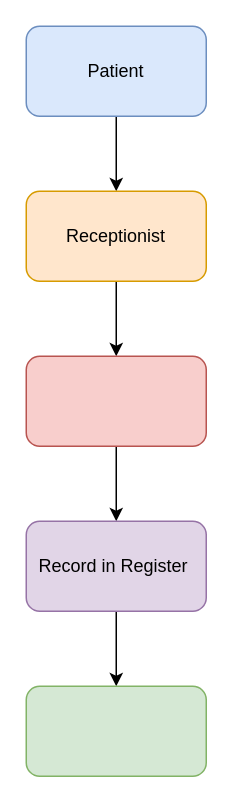
Image size: 233x803. Some labels were removed from this diagram. Here are the shapes that lost their labels. From the top down, the box of each, then its label:
(25, 355, 206, 446): Check Availability
(25, 685, 206, 776): Confirm Appointment
